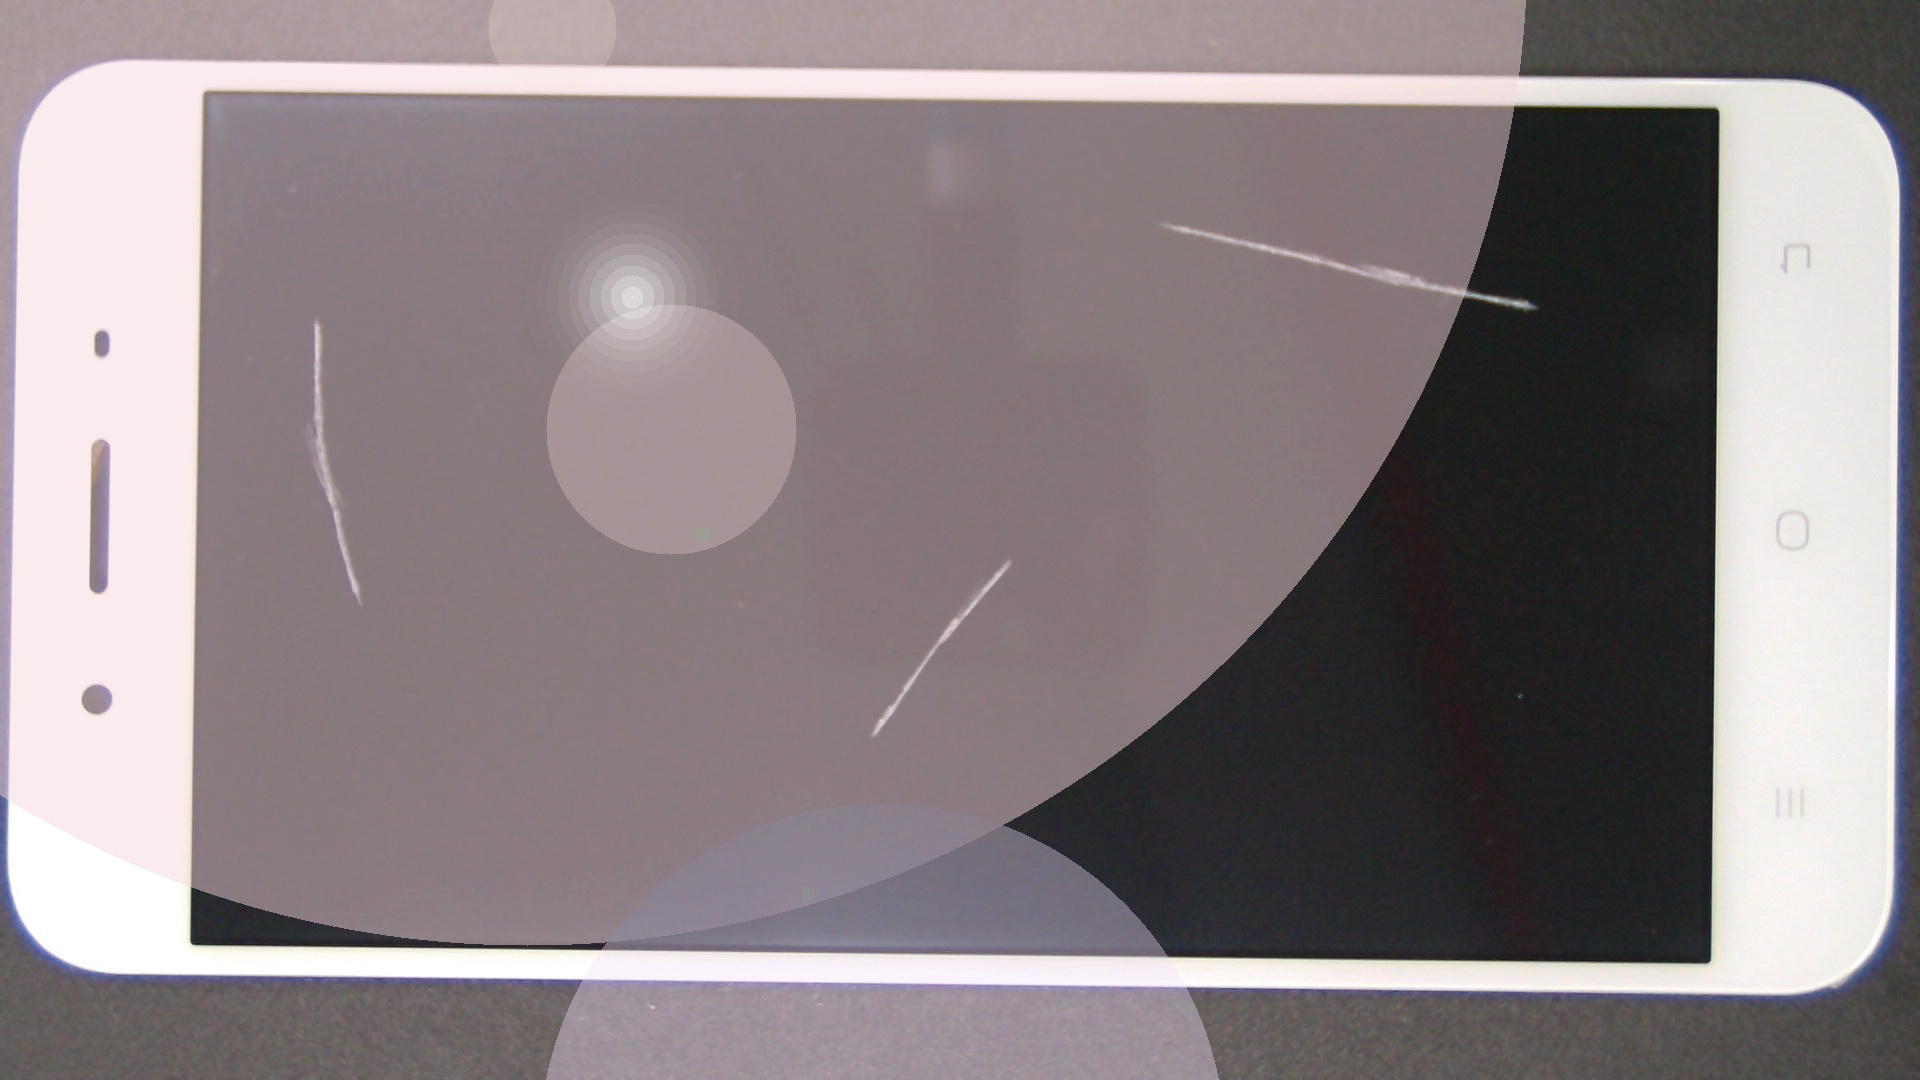oil: (505, 280, 1514, 839), (582, 111, 1743, 334), (157, 160, 472, 479)
